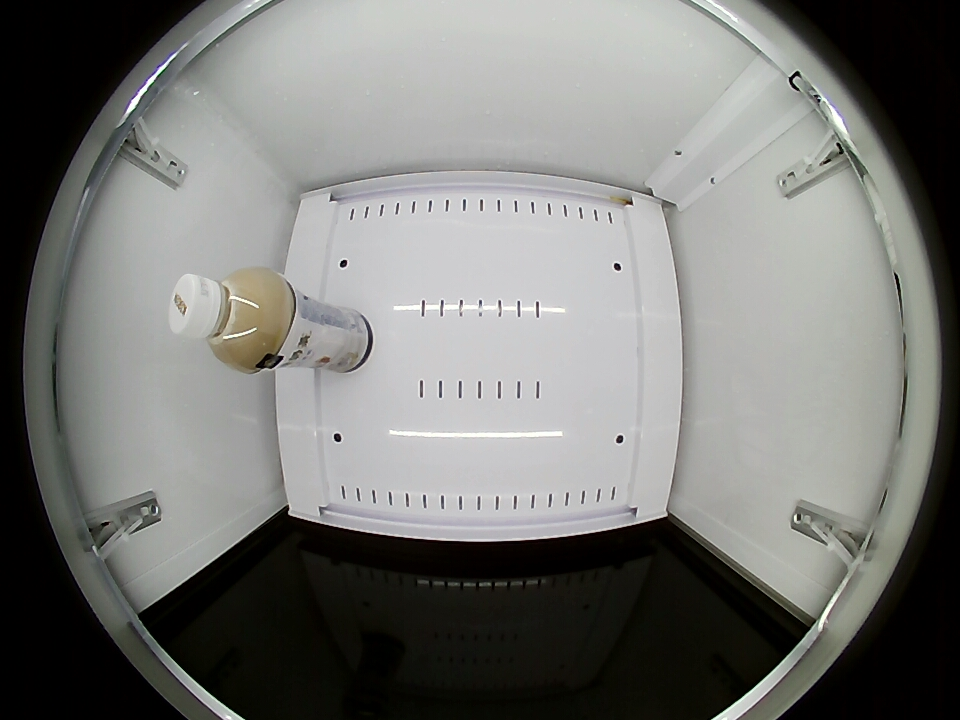wuhounaicha: (170, 268, 294, 370)
